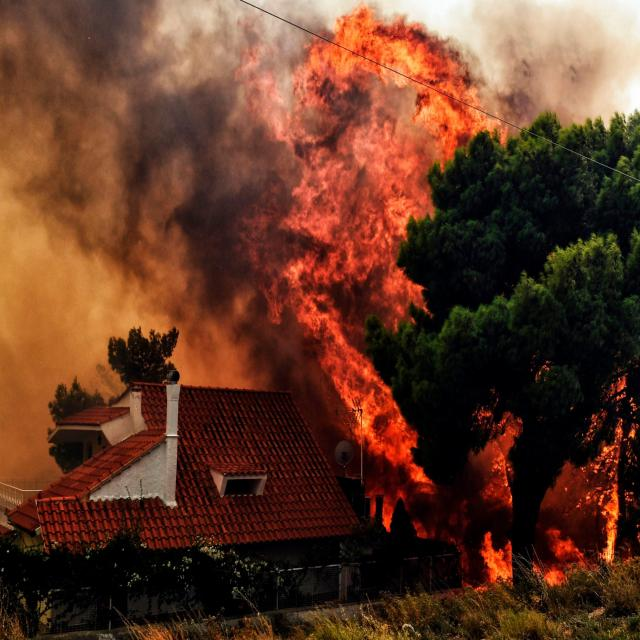Fire: (279, 10, 506, 538), (532, 379, 640, 582)
Smoke: (0, 2, 316, 398), (487, 24, 625, 130)
